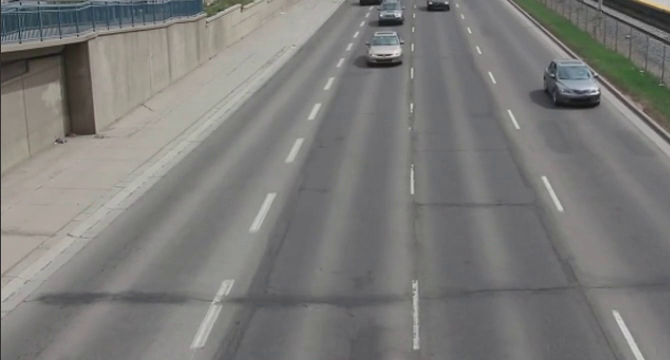car: (539, 55, 604, 107), (367, 33, 411, 66), (378, 1, 406, 26)
